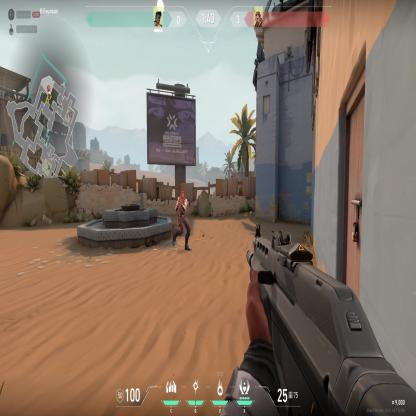enemy: (171, 190, 192, 252)
